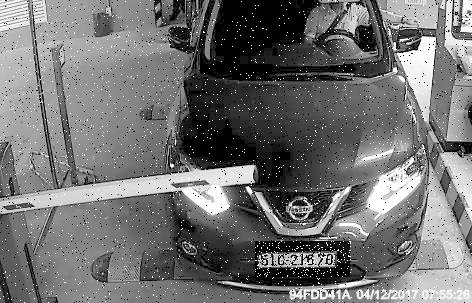License-plate: (257, 242, 353, 278)
